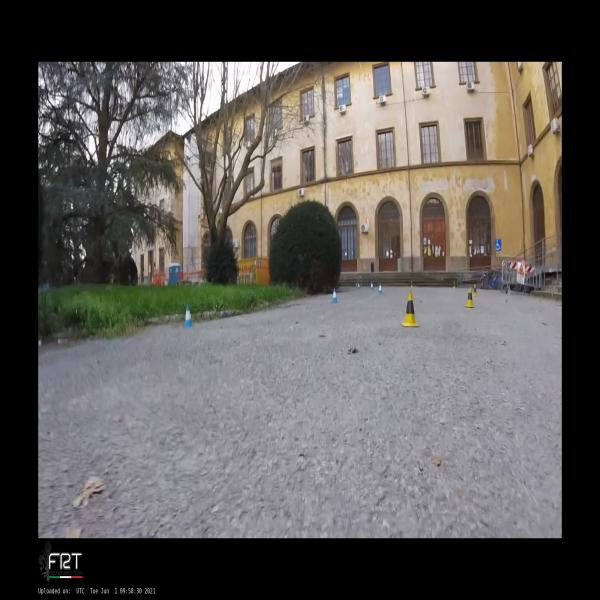blue_cone: (184, 304, 193, 327), (331, 288, 339, 304), (378, 283, 382, 294), (370, 282, 373, 290)
yellow_cone: (400, 292, 420, 328), (464, 287, 474, 308), (472, 284, 477, 296), (453, 280, 456, 289), (410, 281, 412, 287)
